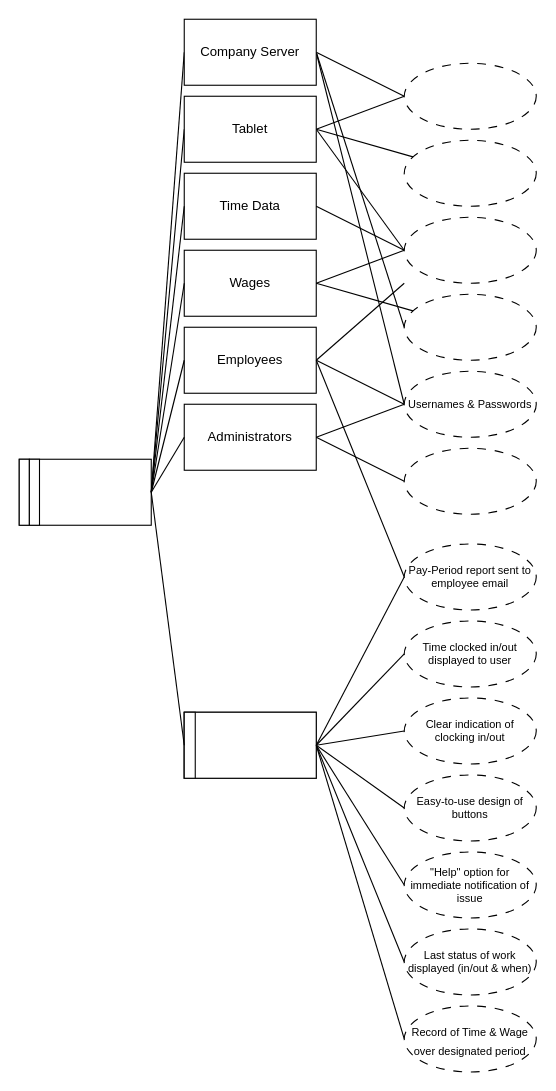
This 556x1091 diagram has some shape labels left out. The centre of each missing label's shape, as x and y in pixels:
Accurate: point (469, 249)
Easy navigability: point (469, 172)
Higher Clearance: point (469, 480)
System should be capable of software updates: point (469, 95)
Time Sheet System: point (84, 491)
User Report: point (249, 744)
Wage data tied to employee: point (469, 326)
